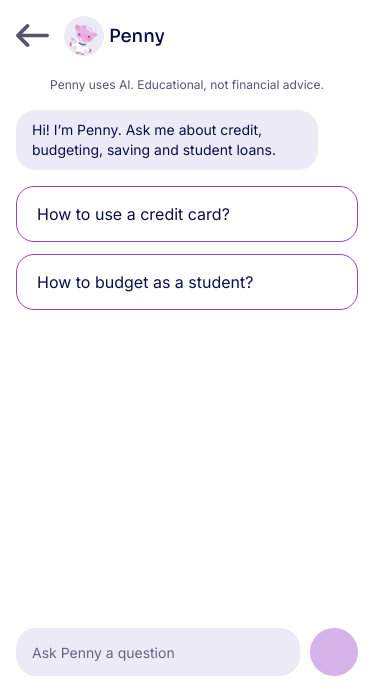
it: PennyChat › says when the daily limit is reached and offers tapped questions
This screenshot has width=375, height=693.
In the field labelled "Ask Penny": coordinates (158, 652) [16,628,300,676], type "What is APR?"
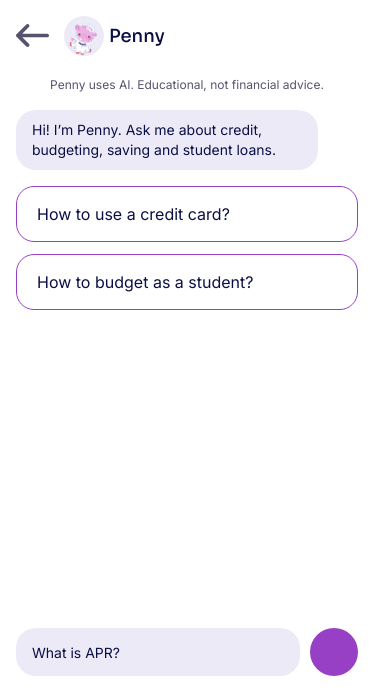
Click the button named "Send": coordinates (334, 652) [310,628,358,676]
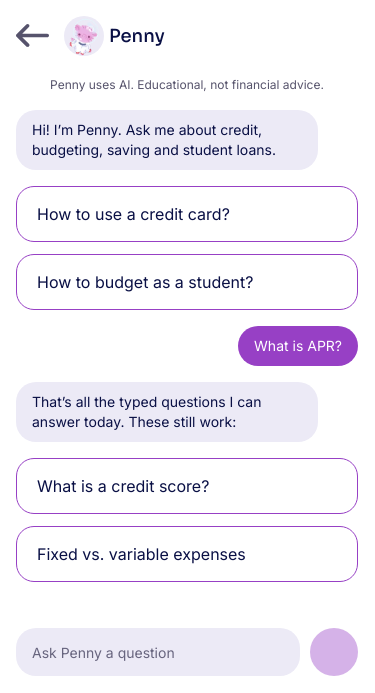
Result: the element named "Penny" shows "That’s all the typed questions I can answer today. These still work:" at [32,393,262,430]
Result: the buttons read "What is a credit score?", "Fixed vs. variable expenses", in this order at [16,458,358,514]; [16,526,358,582]
